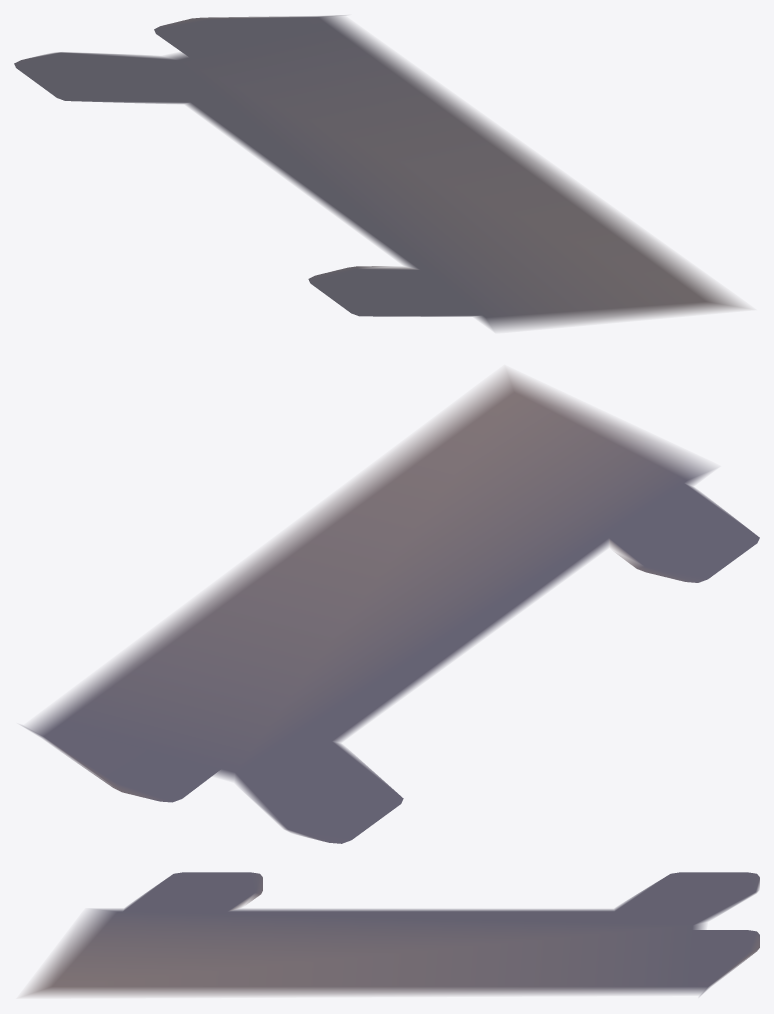
The picture shows the model from 3 angles, top to bottom: view 1: azimuth 30°, elevation 25°; view 2: azimuth 150°, elevation 25°; view 3: azimuth 270°, elevation 25°; orthographic projection. The views are drawn at different scales.
Parts seen in each view (by area): view 1: Joint_0_Object_0; view 2: Joint_0_Object_0; view 3: Joint_0_Object_0.
Boxes of the visible parts, bbox=[...] form: Joint_0_Object_0: bbox=[14, 15, 746, 330]; Joint_0_Object_0: bbox=[23, 370, 759, 843]; Joint_0_Object_0: bbox=[23, 872, 759, 996].
Size of the model in its own units: 1167 by 1.22 by 2890.
1 material, 1 textured.
